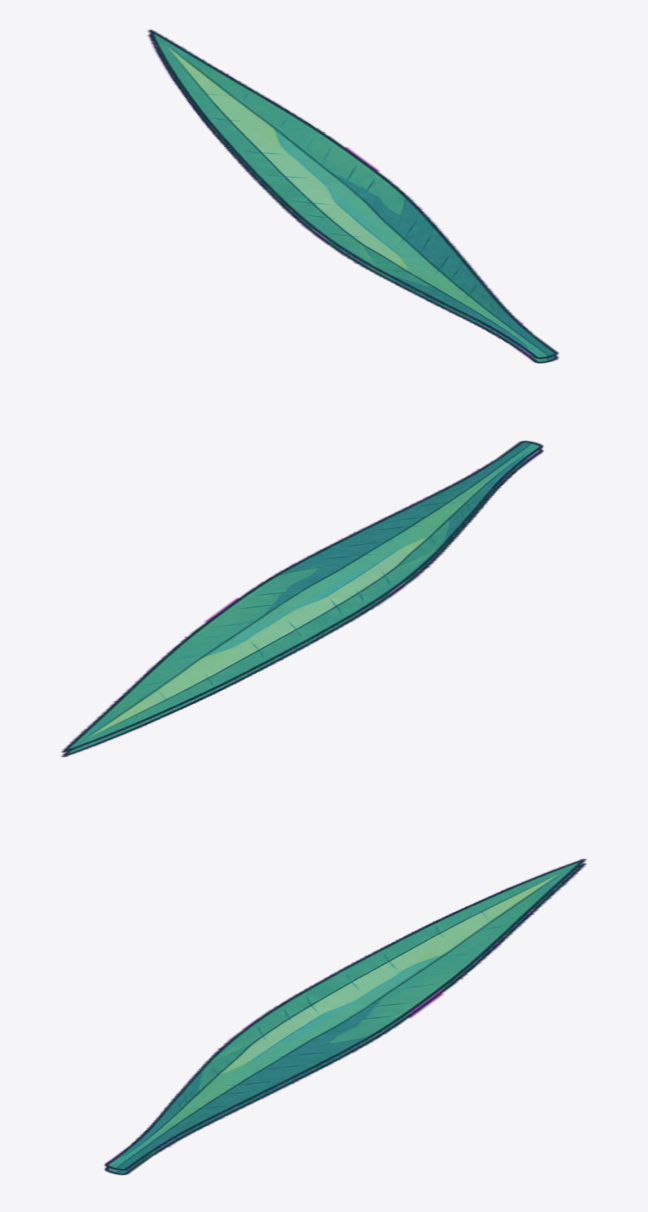
The model's file is leaf_spear.glb.
The picture shows the model from 3 angles, top to bottom: view 1: azimuth 30°, elevation 25°; view 2: azimuth 150°, elevation 25°; view 3: azimuth 330°, elevation 25°; orthographic projection.
Parts seen in each view (by area): view 1: leaf_spear; view 2: leaf_spear; view 3: leaf_spear.
Part boxes in pixels (box(x1,y1,x2,y2)): leaf_spear: box(147, 29, 558, 363); leaf_spear: box(61, 440, 543, 757); leaf_spear: box(104, 858, 586, 1175).
Bounding box in the file's own units: 2 × 0.05 × 9.26.
1 material, 1 textured.
